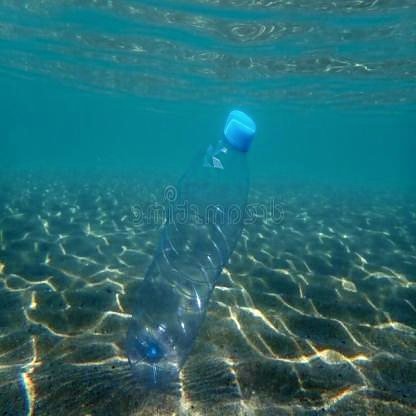pbottle: (114, 89, 267, 398)
